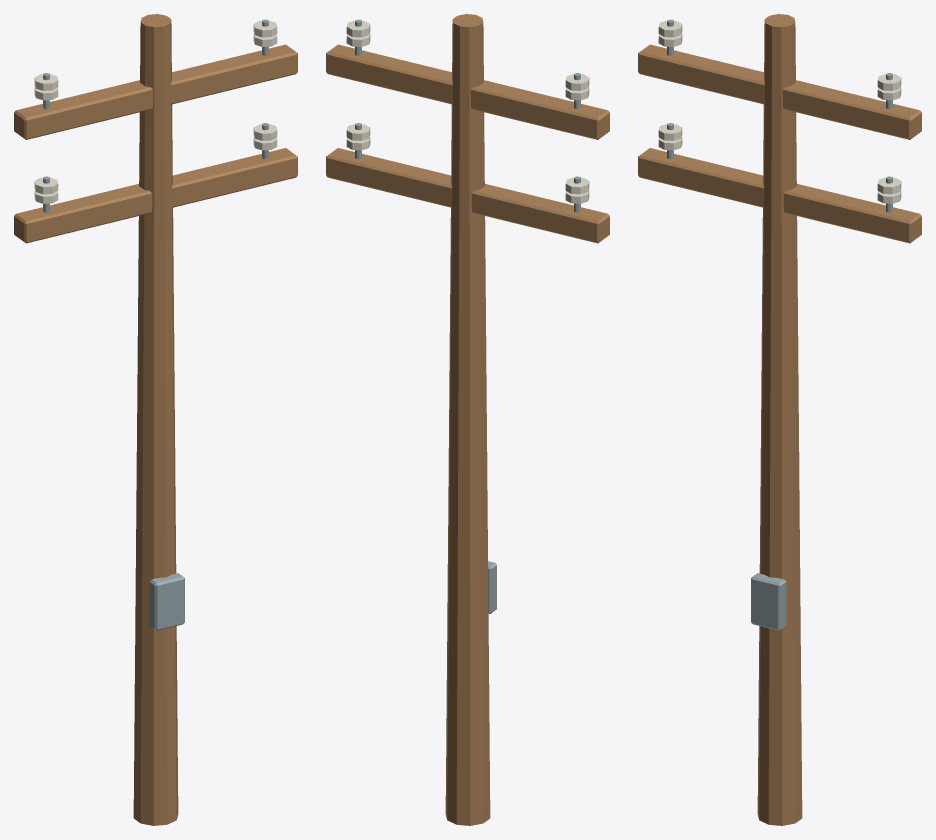
File: Utility_Pole.glb
3 views of the same model, side by side, from view 1: azimuth 30°, elevation 25°; view 2: azimuth 150°, elevation 25°; view 3: azimuth 330°, elevation 25° (orthographic).
Parts seen in each view (by area): view 1: Utility_Pole; view 2: Utility_Pole; view 3: Utility_Pole.
Boxes of the visible parts, x1,y1,x2,y2 form: Utility_Pole: [14, 14, 297, 825]; Utility_Pole: [326, 14, 609, 825]; Utility_Pole: [638, 14, 921, 825].
Size of the model in its own units: 1.8 by 5 by 0.3.
